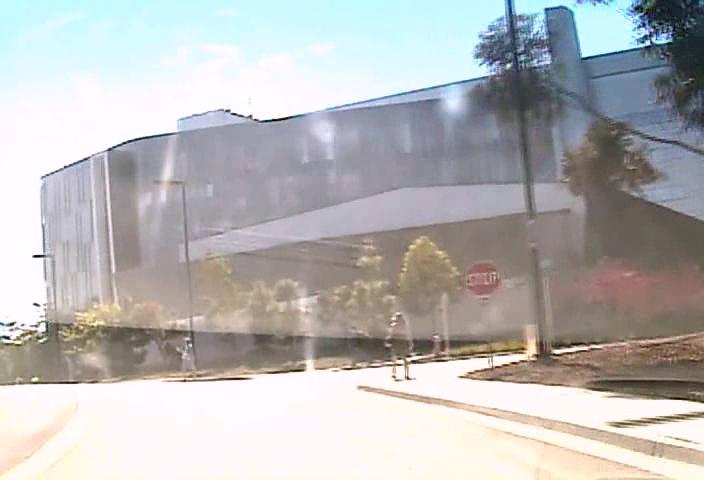stop: (464, 260, 501, 296)
